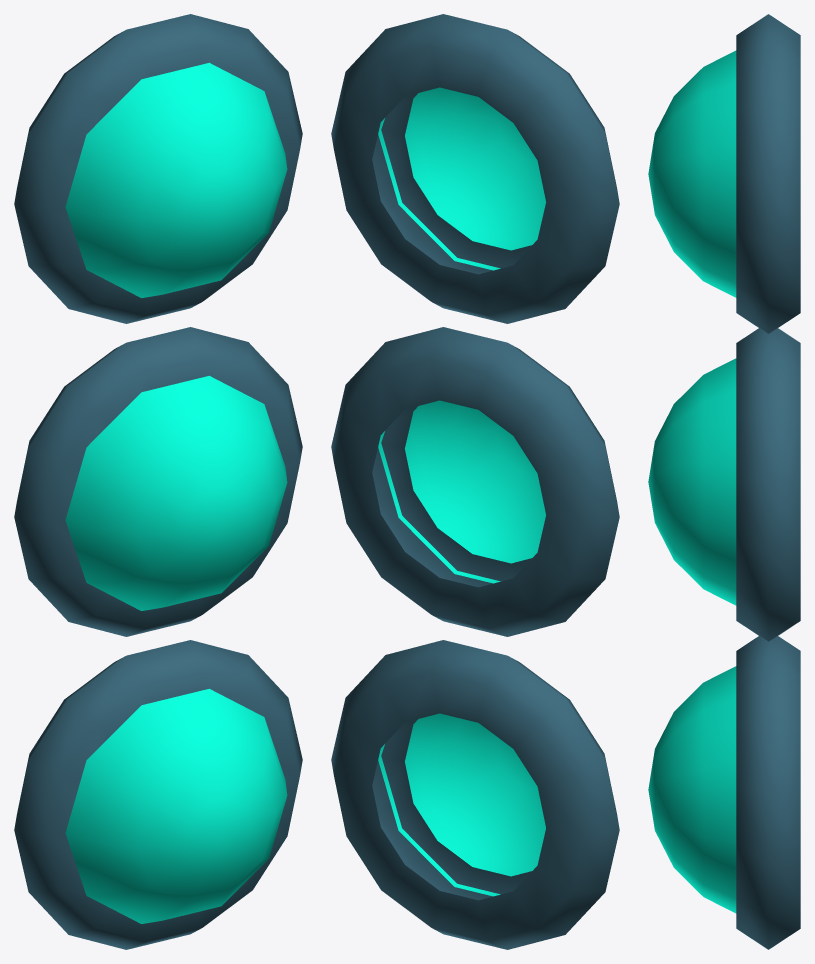
The model's file is lazer.fbx.
The picture shows the model from 3 angles, left to right: view 1: azimuth 30°, elevation 25°; view 2: azimuth 150°, elevation 25°; view 3: azimuth 270°, elevation 25°; orthographic projection.
Parts seen in each view (by area): view 1: polySurface184, polySurface186, polySurface187; view 2: polySurface184, polySurface186, polySurface187; view 3: polySurface184, polySurface186, polySurface187.
Part boxes in pixels (x1,y1,x2,y2): polySurface184: (14, 14, 302, 323); polySurface186: (14, 327, 302, 636); polySurface187: (14, 640, 302, 949); polySurface184: (331, 14, 619, 323); polySurface186: (331, 327, 619, 636); polySurface187: (331, 640, 619, 949); polySurface184: (648, 14, 800, 334); polySurface186: (648, 328, 800, 641); polySurface187: (648, 636, 800, 949).
Bounding box in the file's own units: 2.31 × 7.05 × 1.07.
1 material, 1 textured.
